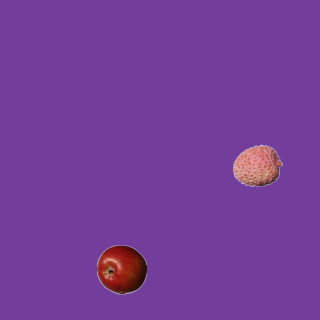Apple Braeburn: (96, 244, 146, 294)
Lychee: (232, 140, 282, 190)
